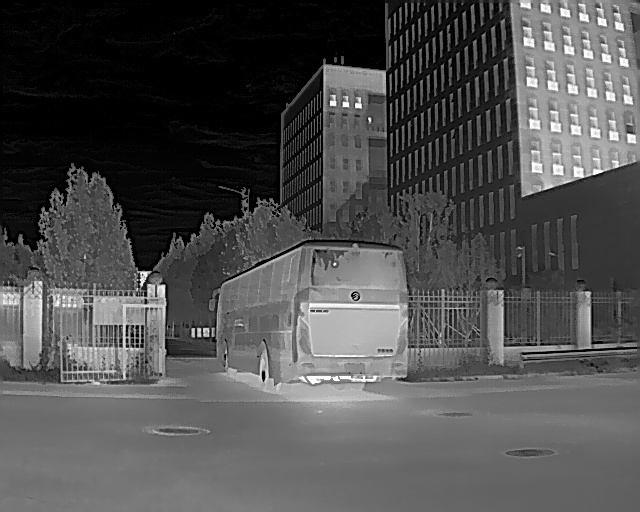bus: (211, 237, 409, 395)
